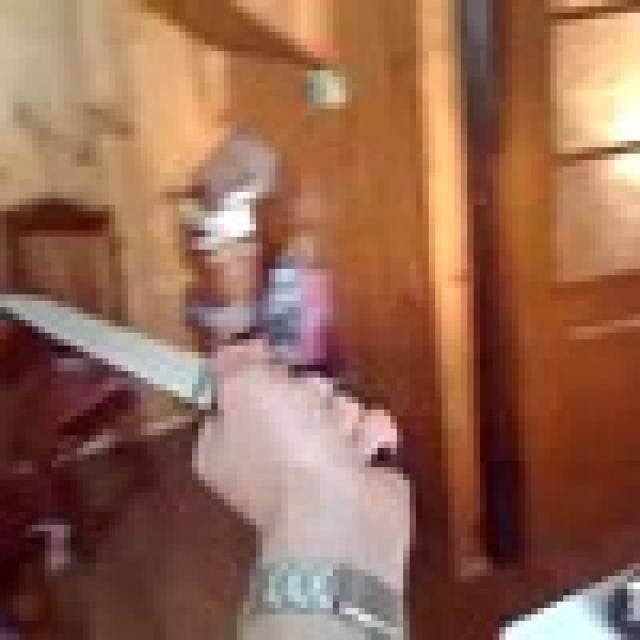Knife: (7, 288, 230, 416)
